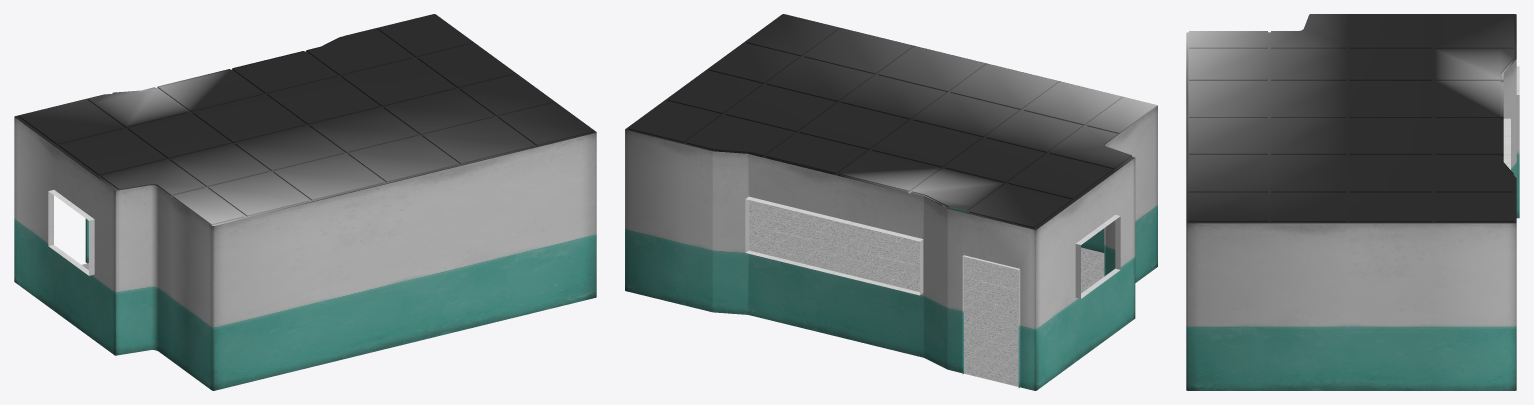
The model's file is room_03.fbx.
The picture shows the model from 3 angles, left to right: view 1: azimuth 30°, elevation 25°; view 2: azimuth 150°, elevation 25°; view 3: azimuth 270°, elevation 25°; orthographic projection. The views are drawn at different scales.
Parts seen in each view (by area): view 1: room_03_tr; view 2: room_03_tr; view 3: room_03_tr.
Part boxes in pixels (x1=…): room_03_tr: x1=14, y1=14, x2=596, y2=390; room_03_tr: x1=625, y1=14, x2=1157, y2=390; room_03_tr: x1=1186, y1=14, x2=1519, y2=390.
Size of the model in its own units: 319 by 119 by 212.
